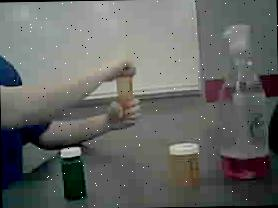Bottle A: (110, 58, 144, 130)
Bottle B: (167, 140, 204, 192)
Bottle C: (58, 145, 89, 204)
hazard: (216, 20, 278, 186)
